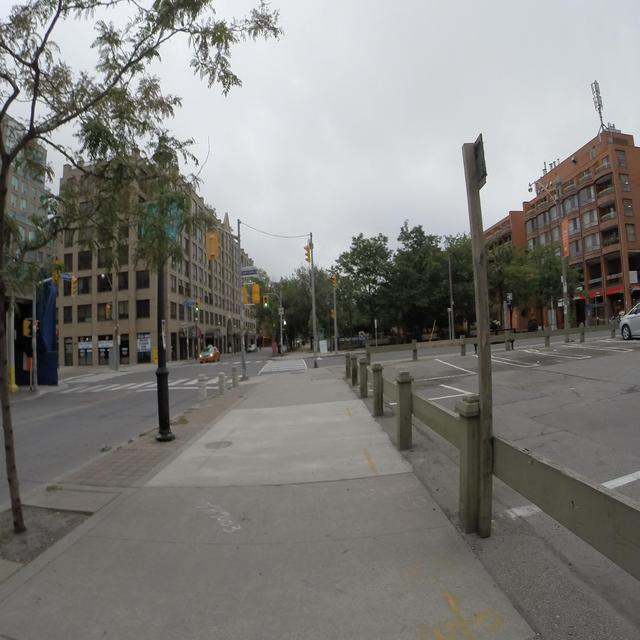Billboard: (319, 338, 329, 353)
Car: (199, 343, 256, 362), (619, 302, 639, 339)
Manhole: (205, 440, 232, 448)
Trash Can: (527, 318, 536, 330)
Vegetation: (313, 219, 475, 339), (250, 261, 333, 351)
